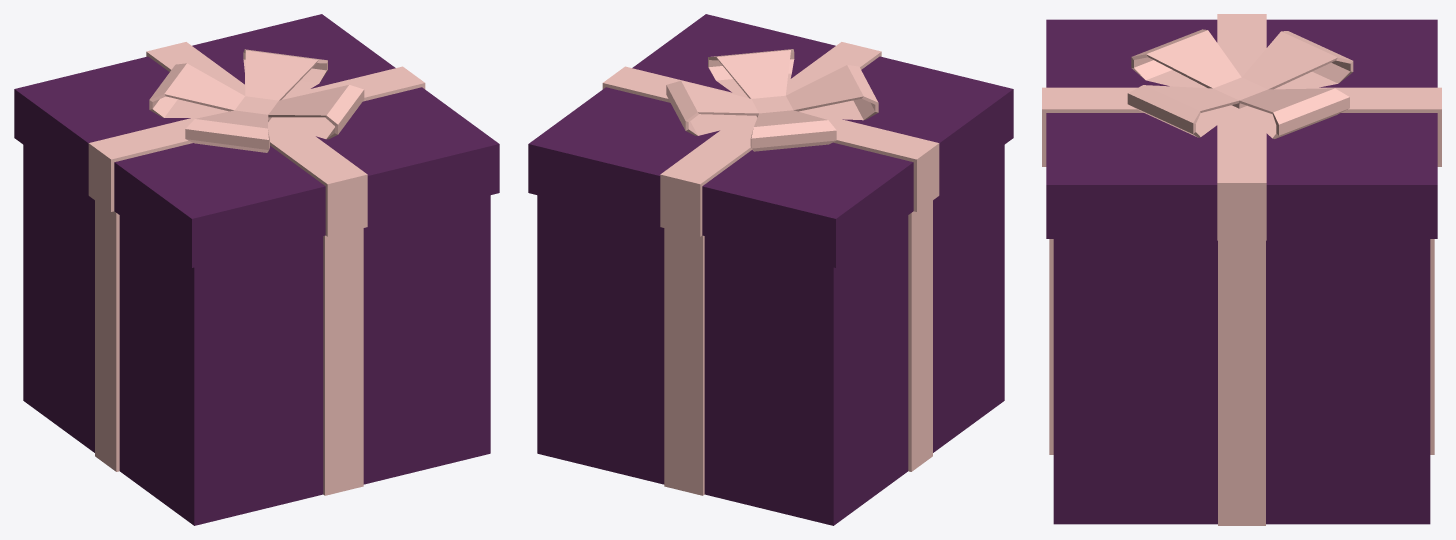
The model's file is Box.Gift02.fbx.
3 views of the same model, side by side, from view 1: azimuth 30°, elevation 25°; view 2: azimuth 150°, elevation 25°; view 3: azimuth 270°, elevation 25° (orthographic). The views are drawn at different scales.
Parts seen in each view (by area): view 1: Box.Gift.Bottom.002, Box.Gift.Top.002; view 2: Box.Gift.Bottom.002, Box.Gift.Top.002; view 3: Box.Gift.Bottom.002, Box.Gift.Top.002.
Part boxes in pixels (<box>): Box.Gift.Bottom.002: <box>23,145,490,525</box>; Box.Gift.Top.002: <box>14,14,499,267</box>; Box.Gift.Bottom.002: <box>537,145,1004,525</box>; Box.Gift.Top.002: <box>528,14,1013,267</box>; Box.Gift.Bottom.002: <box>1049,239,1434,525</box>; Box.Gift.Top.002: <box>1042,14,1441,240</box>.
Size of the model in its own units: 86.78 by 89.34 by 86.78.
